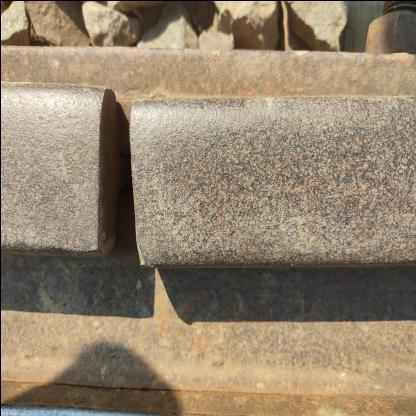Defective: (8, 37, 238, 306)
